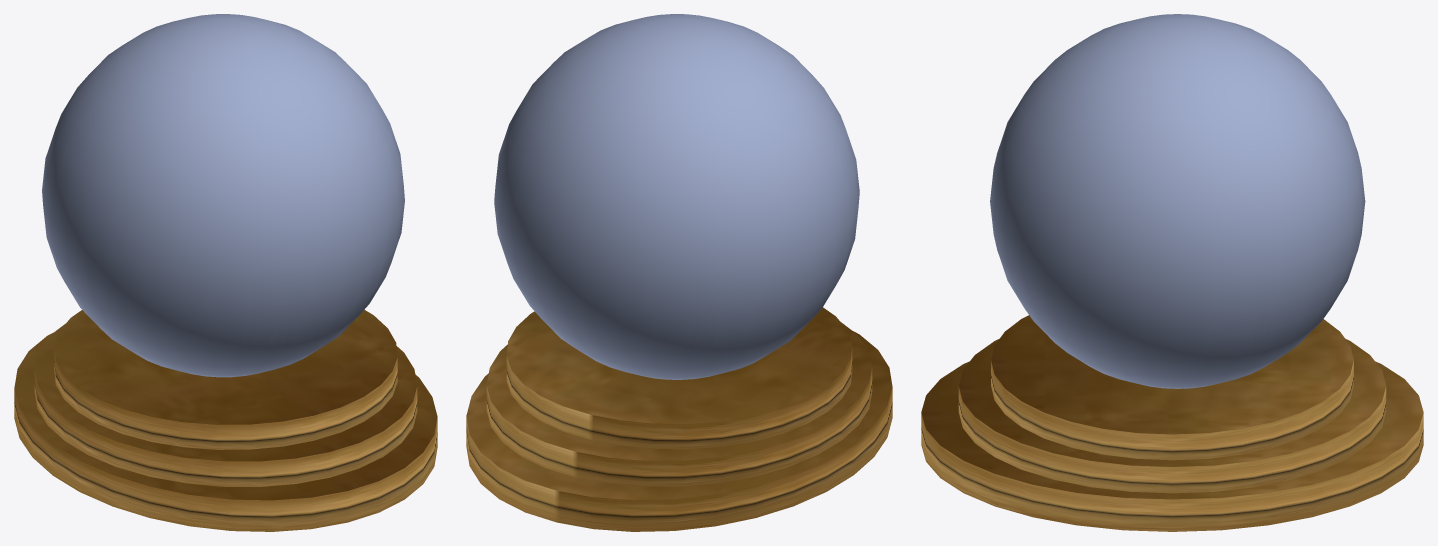
The model's file is crystalBall.fbx.
3 views of the same model, side by side, from view 1: azimuth 30°, elevation 25°; view 2: azimuth 150°, elevation 25°; view 3: azimuth 270°, elevation 25° (orthographic). The views are drawn at different scales.
Visible parts, largest first — view 1: Sphere, Cylinder; view 2: Sphere, Cylinder; view 3: Sphere, Cylinder.
Part boxes in pixels (<box>): Sphere: <box>42,14,404,377</box>; Cylinder: <box>14,310,437,531</box>; Sphere: <box>494,14,859,379</box>; Cylinder: <box>466,307,892,531</box>; Sphere: <box>990,14,1365,388</box>; Cylinder: <box>921,315,1423,531</box>.
Size of the model in its own units: 173 by 191 by 211.
